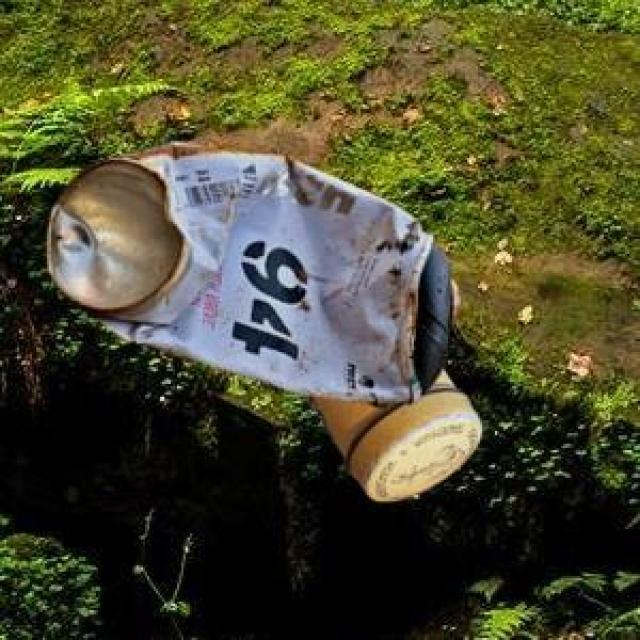logam: (46, 140, 455, 404), (302, 366, 479, 498)
